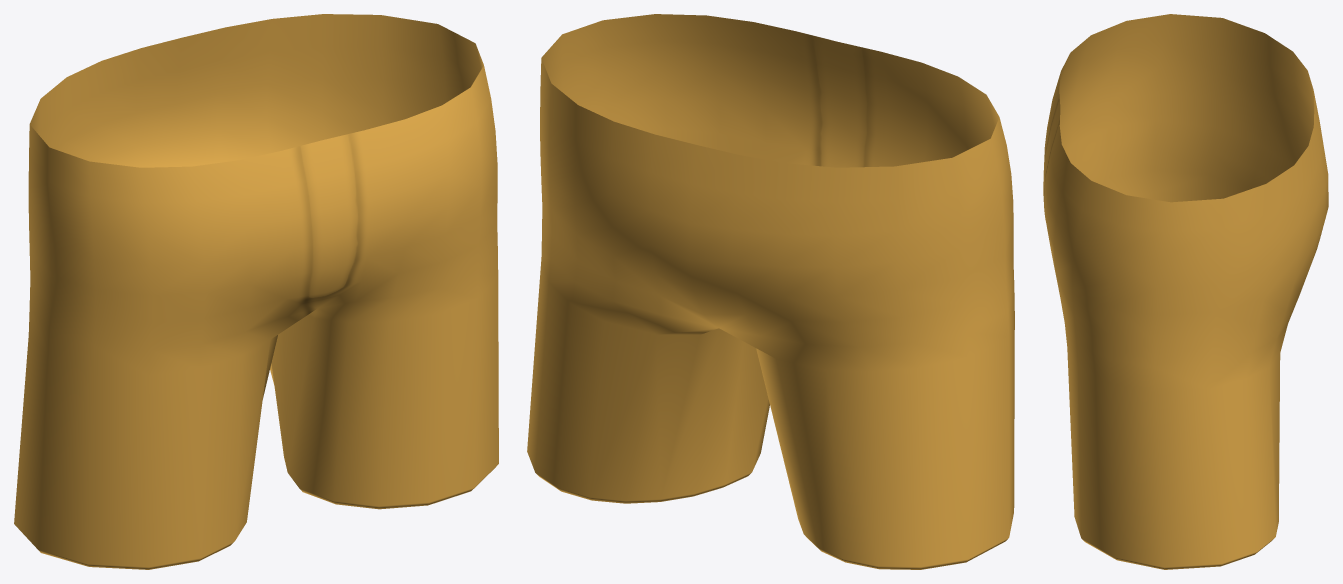
Rendered from lower cloth 02.glb.
The picture shows the model from 3 angles, left to right: view 1: azimuth 30°, elevation 25°; view 2: azimuth 150°, elevation 25°; view 3: azimuth 270°, elevation 25°; orthographic projection. The views are drawn at different scales.
Parts seen in each view (by area): view 1: lower_cloth_02; view 2: lower_cloth_02; view 3: lower_cloth_02.
Boxes of the visible parts, box(x1,y1,x2,y2) form: lower_cloth_02: box(14, 14, 498, 569); lower_cloth_02: box(527, 14, 1014, 569); lower_cloth_02: box(1043, 14, 1328, 569).
Bounding box in the file's own units: 0.00514 × 0.00433 × 0.00308.
Materials: 1 (1 with a texture image).
